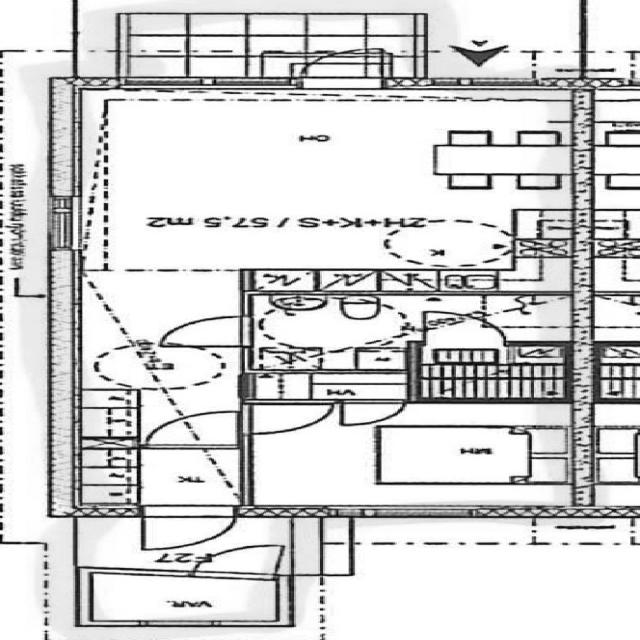door: (124, 511, 244, 555), (180, 544, 294, 580), (238, 400, 342, 436), (142, 412, 242, 448), (161, 312, 252, 348), (329, 396, 414, 426)
window: (35, 190, 95, 254)
zone: (43, 99, 591, 293), (241, 400, 591, 513), (242, 289, 514, 371), (415, 0, 591, 84), (76, 572, 286, 626), (418, 344, 574, 400), (238, 371, 422, 400)
